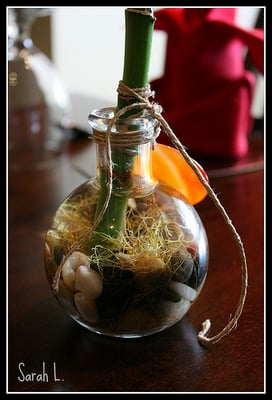curry: (8, 117, 266, 395)
soup: (44, 112, 209, 340)
